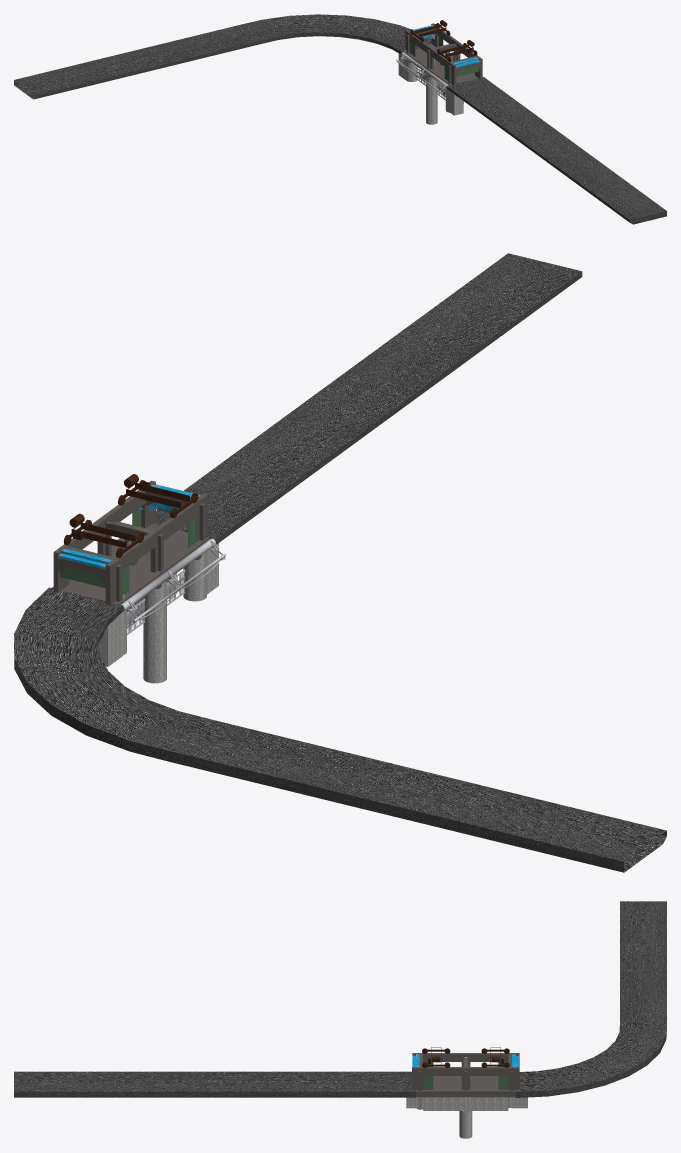
File: DeganiaDam.fbx
3 views of the same model, one above another, from view 1: azimuth 30°, elevation 25°; view 2: azimuth 150°, elevation 25°; view 3: azimuth 270°, elevation 25° (orthographic). The views are drawn at different scales.
Parts seen in each view (by area): view 1: Cube_3, Cube_3_2, Cube_3_8, Cylinder_1_2, Cube_11_3; view 2: Cube_3, Cube_3_2, Cube_3_8, Cylinder_1_2, Cube_11_3, Cube_18_2, Cube_22_3, Cylinder_3_2; view 3: Cube_3, Cube_3_2, Cube_3_8, Cube_18_2, Cube_11_3, Cube_14, Cube_13, Cylinder_1_2.
Part boxes in pixels (x1,y1,x2,y2): Cube_3: (14,14,432,99); Cube_3_2: (446,77,666,224); Cube_3_8: (405,45,478,85); Cylinder_1_2: (426,73,437,124); Cube_11_3: (407,31,451,68); Cube_3: (14,587,666,872); Cube_3_2: (152,253,582,544); Cube_3_8: (52,524,209,604); Cylinder_1_2: (143,580,166,683); Cube_11_3: (109,499,200,577); Cube_18_2: (61,483,151,552); Cube_22_3: (99,612,122,666); Cylinder_3_2: (121,538,215,612); Cube_3: (516,901,666,1097); Cube_3_2: (14,1071,415,1097); Cube_3_8: (415,1076,515,1097); Cube_18_2: (416,1067,515,1075); Cube_11_3: (420,1053,515,1061); Cube_14: (423,1097,462,1110); Cube_13: (469,1097,508,1110); Cylinder_1_2: (459,1111,472,1138).
Bounding box in the file's own units: 1759 × 399 × 2543.
